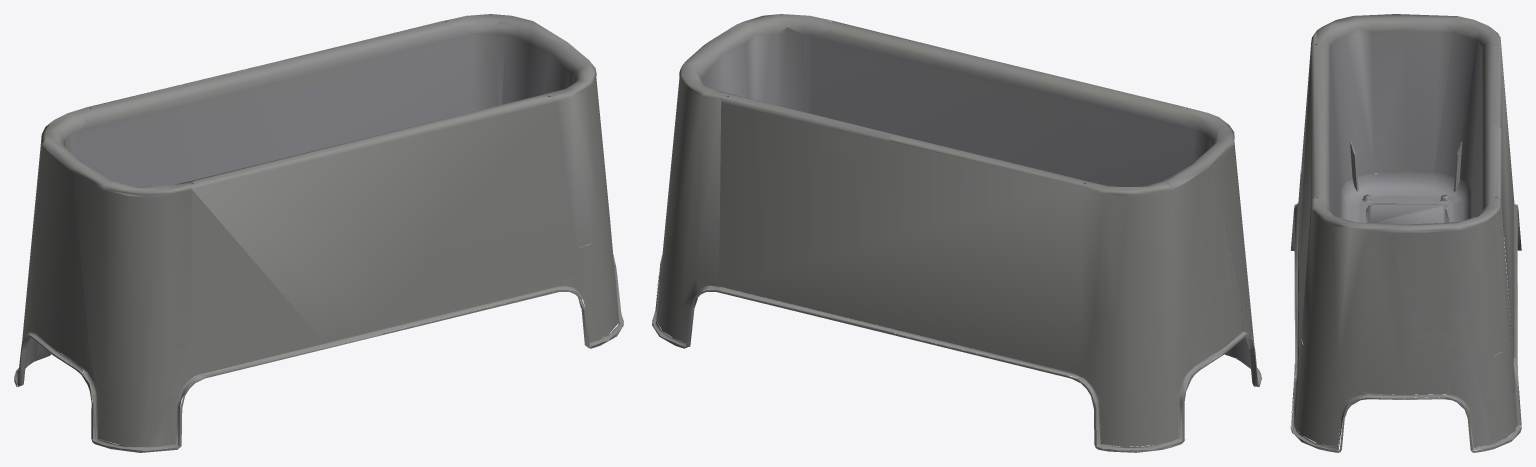
The picture shows the model from 3 angles, left to right: view 1: azimuth 30°, elevation 25°; view 2: azimuth 150°, elevation 25°; view 3: azimuth 270°, elevation 25°; orthographic projection. The views are drawn at different scales.
Visible parts, largest first — view 1: asparen; view 2: asparen; view 3: asparen.
Boxes of the visible parts, x1,y1,x2,y2 form: asparen: (14, 14, 623, 452); asparen: (652, 14, 1261, 452); asparen: (1290, 14, 1521, 452).
Size of the model in its own units: 0.8989 by 0.401 by 0.3829.
Materials: 1 (1 with a texture image).
